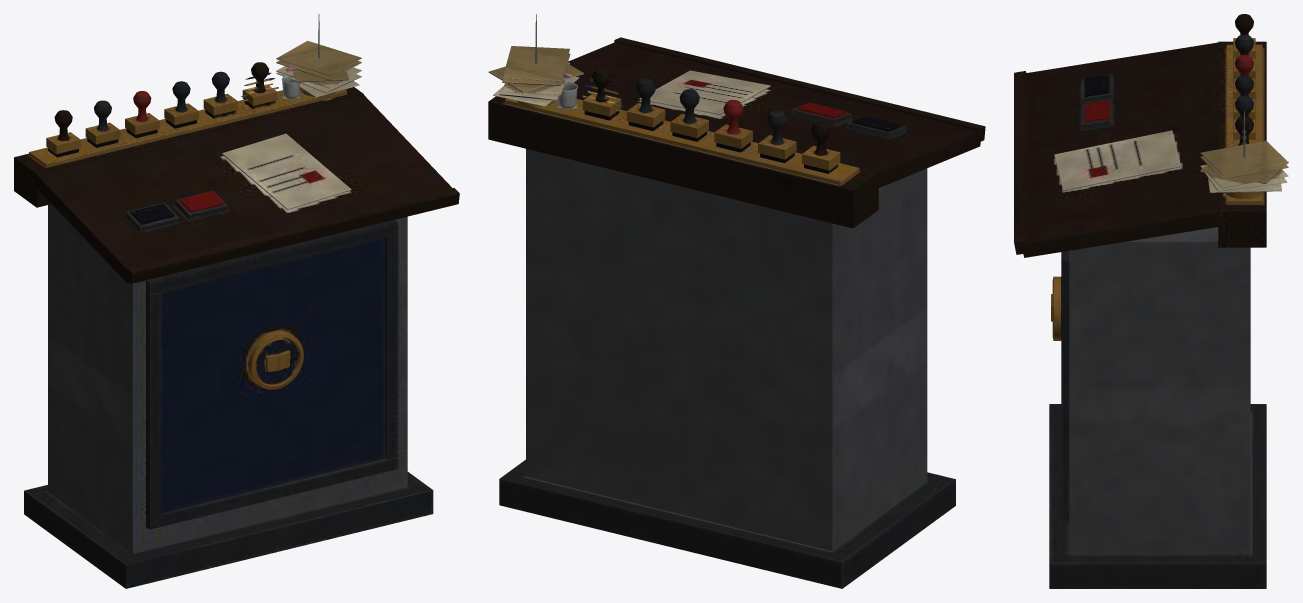
File: stamp_station.glb
The picture shows the model from 3 angles, left to right: view 1: azimuth 30°, elevation 25°; view 2: azimuth 150°, elevation 25°; view 3: azimuth 270°, elevation 25°; orthographic projection. The views are drawn at different scales.
Visible parts, largest first — view 1: stamp_station; view 2: stamp_station; view 3: stamp_station.
Part boxes in pixels (<box>): stamp_station: <box>14,14,459,588</box>; stamp_station: <box>488,14,985,588</box>; stamp_station: <box>1014,14,1288,588</box>.
Size of the model in its own units: 1 by 1.28 by 0.683.
1 material, 1 textured.
